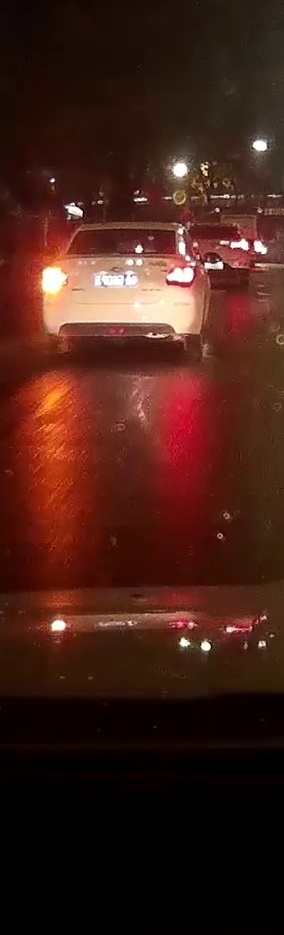L_light: (42, 268, 67, 290)
R_light: (165, 266, 196, 288)
T_light: (113, 228, 134, 234)
night-left: (42, 221, 197, 359)
